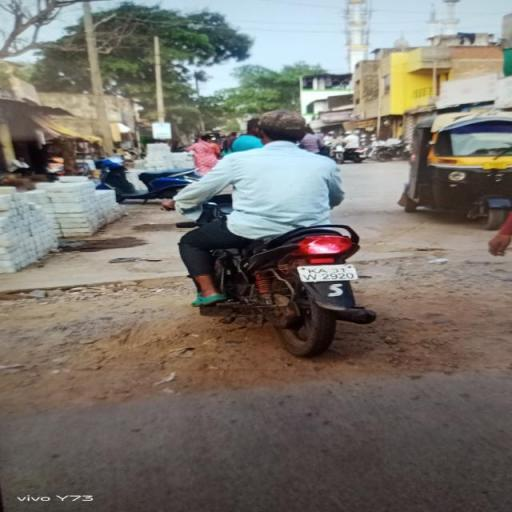bike: (158, 109, 383, 361)
numberplate: (296, 262, 356, 284)
withouthelmet: (259, 111, 308, 143)
